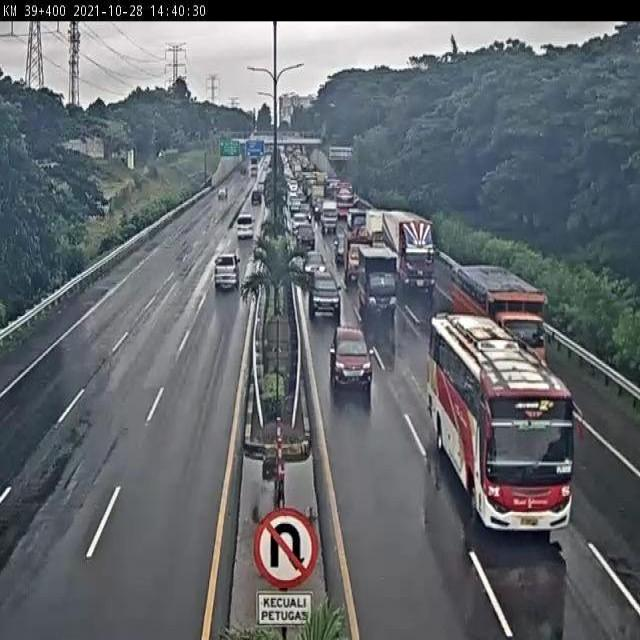bus-l-: (431, 308, 571, 532)
car: (329, 324, 373, 385), (309, 270, 339, 314), (215, 252, 241, 292), (234, 212, 258, 243), (302, 250, 325, 278)
truck-l-: (452, 267, 545, 369), (380, 211, 436, 292)
truck-m-: (357, 245, 396, 312), (344, 228, 376, 281)
